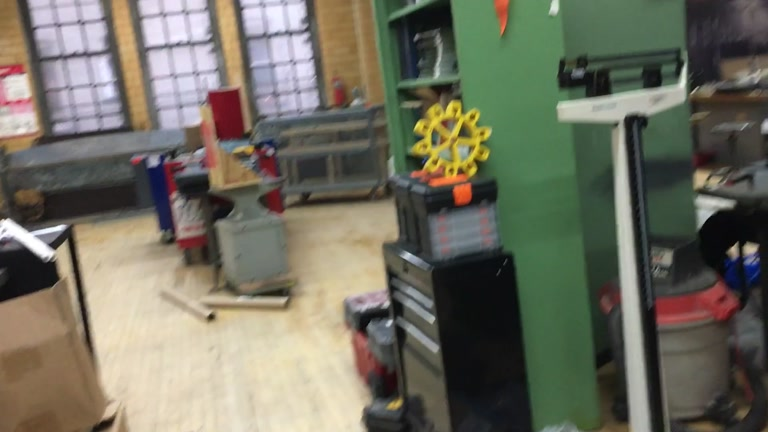gear: (413, 100, 492, 179)
